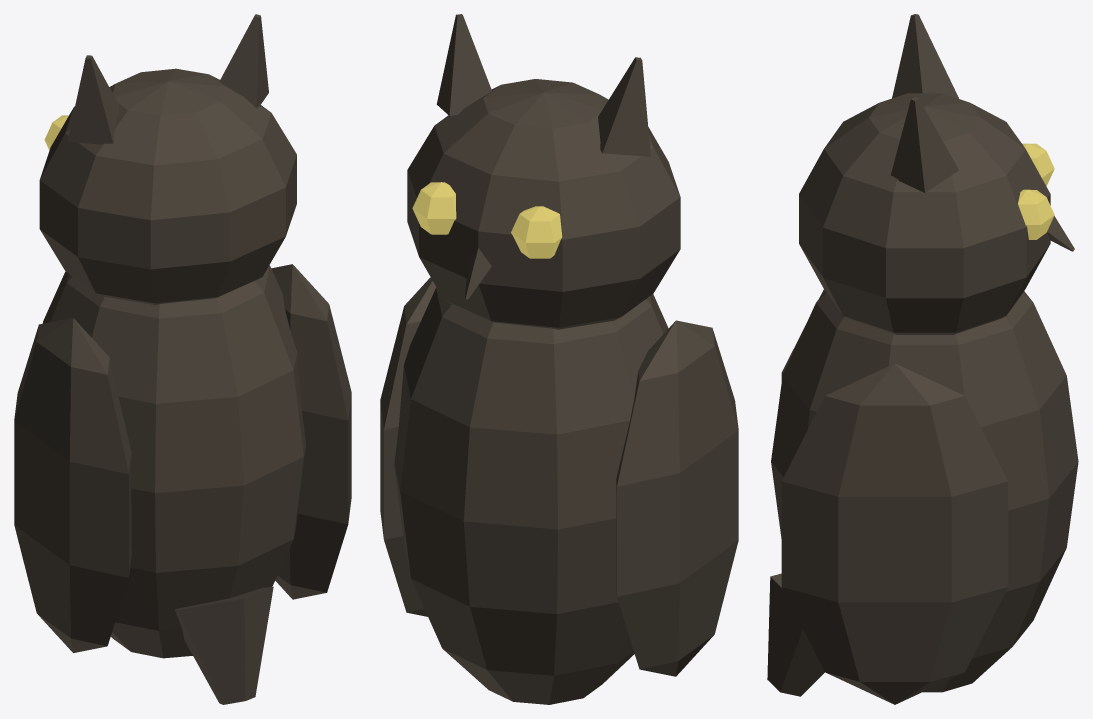
The model's file is owl.glb.
3 views of the same model, side by side, from view 1: azimuth 30°, elevation 25°; view 2: azimuth 150°, elevation 25°; view 3: azimuth 270°, elevation 25° (orthographic). The views are drawn at different scales.
Visible parts, largest first — view 1: owl, head; view 2: owl, head; view 3: owl, head.
Part boxes in pixels (x1=…): owl: x1=14, y1=264, x2=351, y2=704; head: x1=39, y1=14, x2=296, y2=304; owl: x1=380, y1=277, x2=738, y2=704; head: x1=407, y1=14, x2=680, y2=329; owl: x1=767, y1=289, x2=1078, y2=704; head: x1=799, y1=14, x2=1074, y2=334.
Size of the model in its own units: 0.3341 by 0.7067 by 0.3136.
